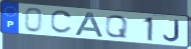0: (23, 6, 46, 34)
1: (142, 16, 155, 42)
A: (74, 12, 107, 39)
C: (49, 10, 75, 35)
J: (162, 20, 181, 43)
Q: (104, 15, 130, 39)
